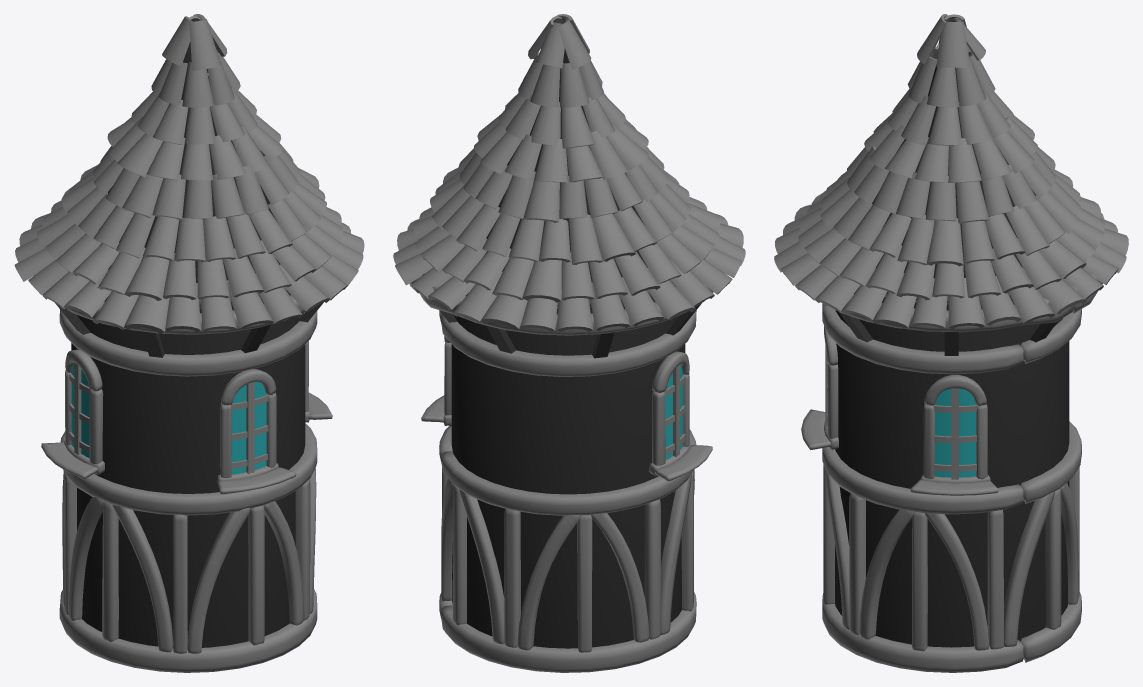
The model's file is SM_tower_02.fbx.
3 renders of one model, left to right at view 1: azimuth 30°, elevation 25°; view 2: azimuth 150°, elevation 25°; view 3: azimuth 270°, elevation 25°, orthographic.
Visible parts, largest first — view 1: Cylinder044; view 2: Cylinder044; view 3: Cylinder044.
Part boxes in pixels (<box>): Cylinder044: <box>14,14,364,672</box>; Cylinder044: <box>393,14,745,672</box>; Cylinder044: <box>774,14,1128,672</box>.
Bounding box in the file's own units: 153 × 293 × 155.
